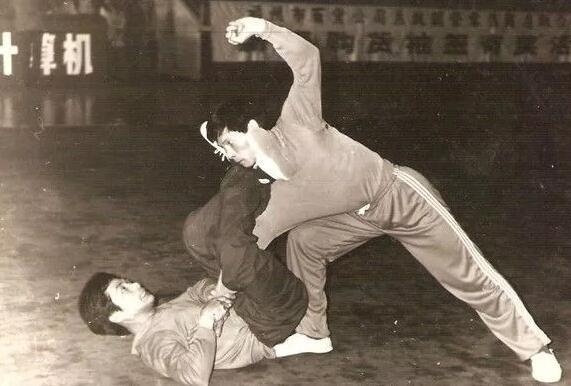falling: (177, 9, 568, 381)
